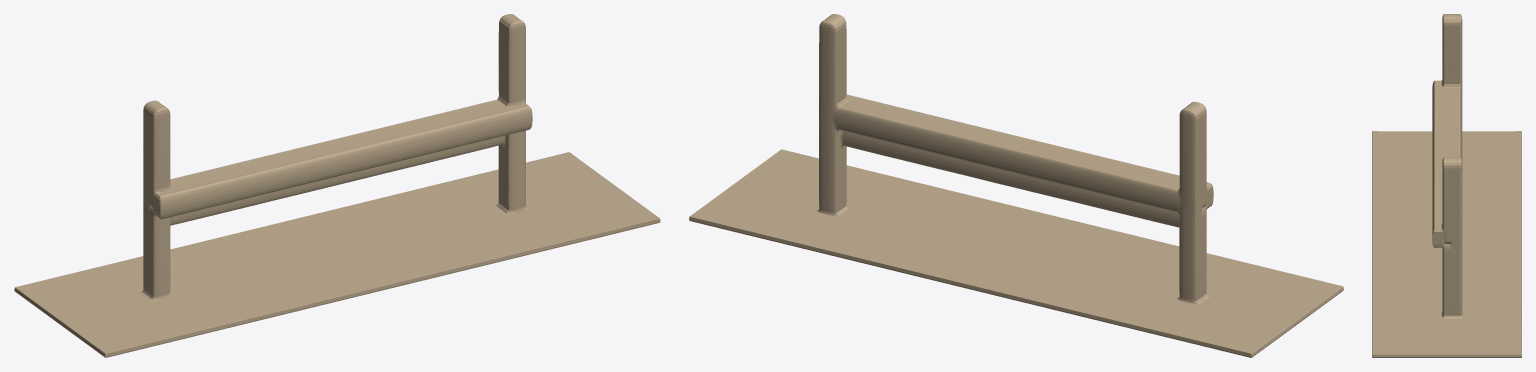
The model's file is hunyuan21.glb.
3 views of the same model, side by side, from view 1: azimuth 30°, elevation 25°; view 2: azimuth 150°, elevation 25°; view 3: azimuth 270°, elevation 25° (orthographic). The views are drawn at different scales.
Parts seen in each view (by area): view 1: geometry_0; view 2: geometry_0; view 3: geometry_0.
Part boxes in pixels (x1=…): geometry_0: x1=14, y1=14, x2=660, y2=357; geometry_0: x1=689, y1=14, x2=1343, y2=357; geometry_0: x1=1372, y1=14, x2=1521, y2=357.
Bounding box in the file's own units: 0.6 × 0.2 × 0.17.
